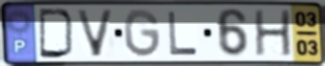6: (216, 7, 251, 59)
D: (37, 7, 77, 61)
G: (122, 7, 163, 60)
H: (253, 8, 294, 58)
L: (166, 10, 200, 57)
V: (74, 9, 117, 59)
